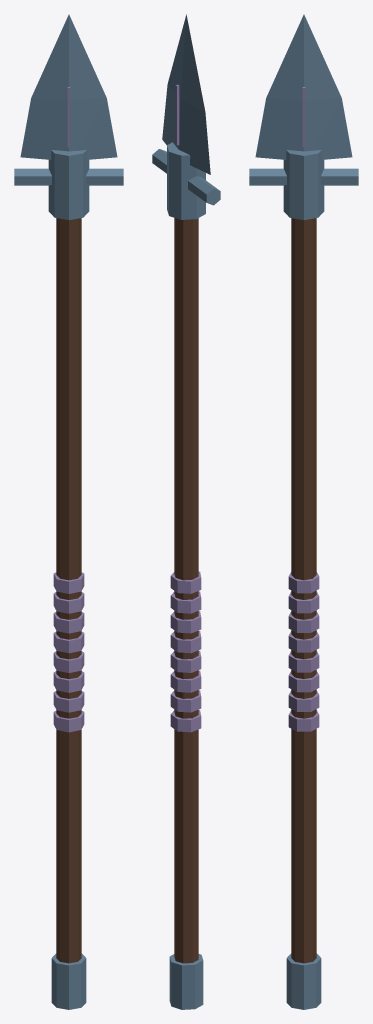
File: spear_alloy.glb
3 renders of one model, left to right at view 1: azimuth 90°, elevation 25°; view 2: azimuth 210°, elevation 25°; view 3: azimuth 270°, elevation 25°, orthographic.
Visible parts, largest first — view 1: geometry; view 2: geometry; view 3: geometry.
Boxes of the visible parts, x1,y1,x2,y2 form: geometry: (14,14,123,1009); geometry: (152,14,220,1009); geometry: (249,14,358,1009).
Bounding box in the file's own units: 0.074 × 2 × 0.2.
